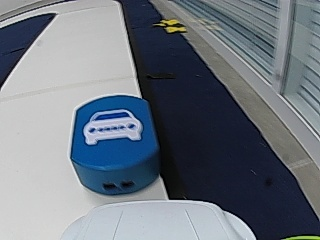safety: (84, 109, 145, 143)
